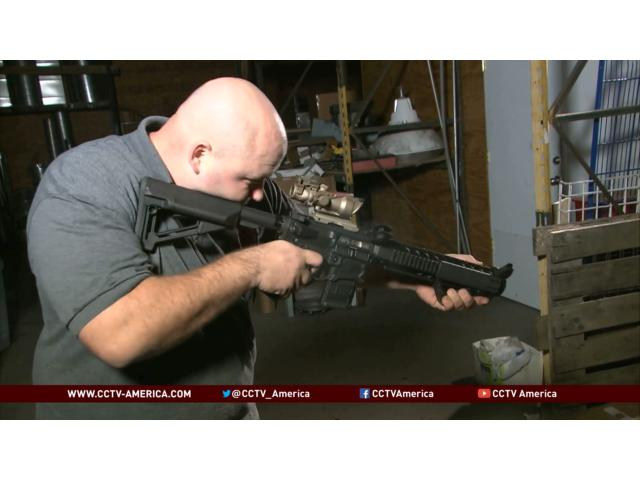rifle: (123, 171, 515, 318)
